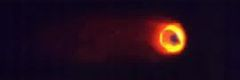keyhole: (166, 31, 180, 46)
